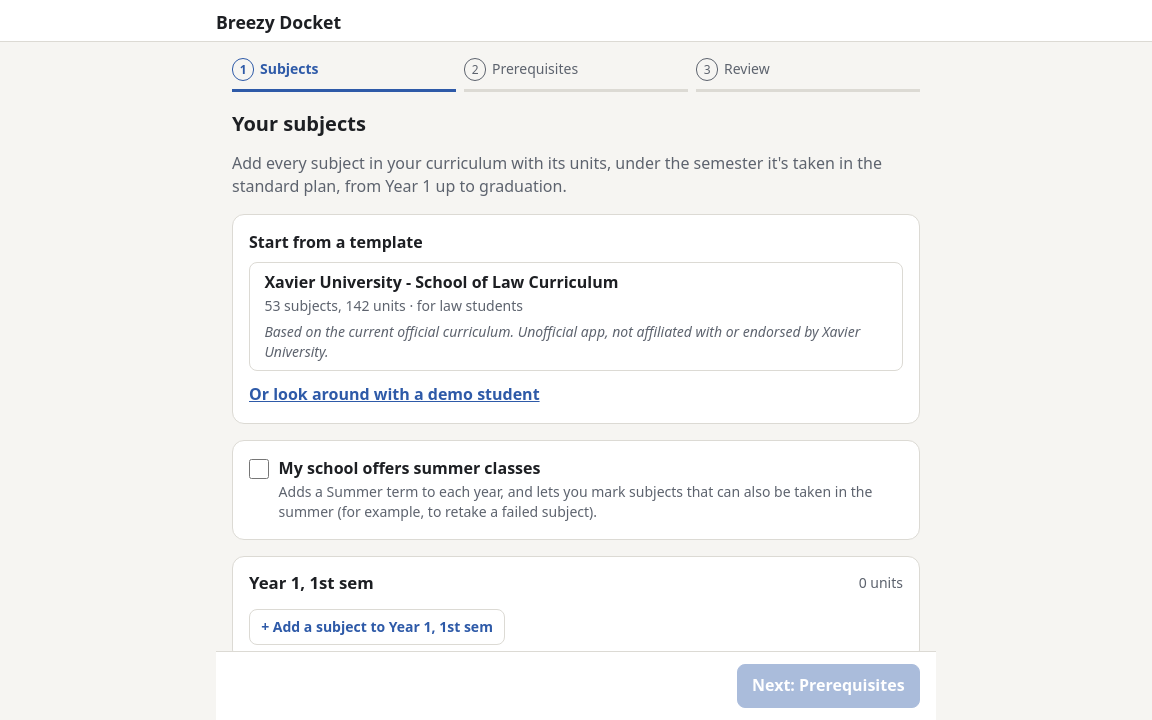
Test: working subjects › moving a subject warns when that blocks a subject planned soon after it
Click the button "Or look around with a demo student".
click(394, 395)  # box [249,383,540,406]
(page scrolled)
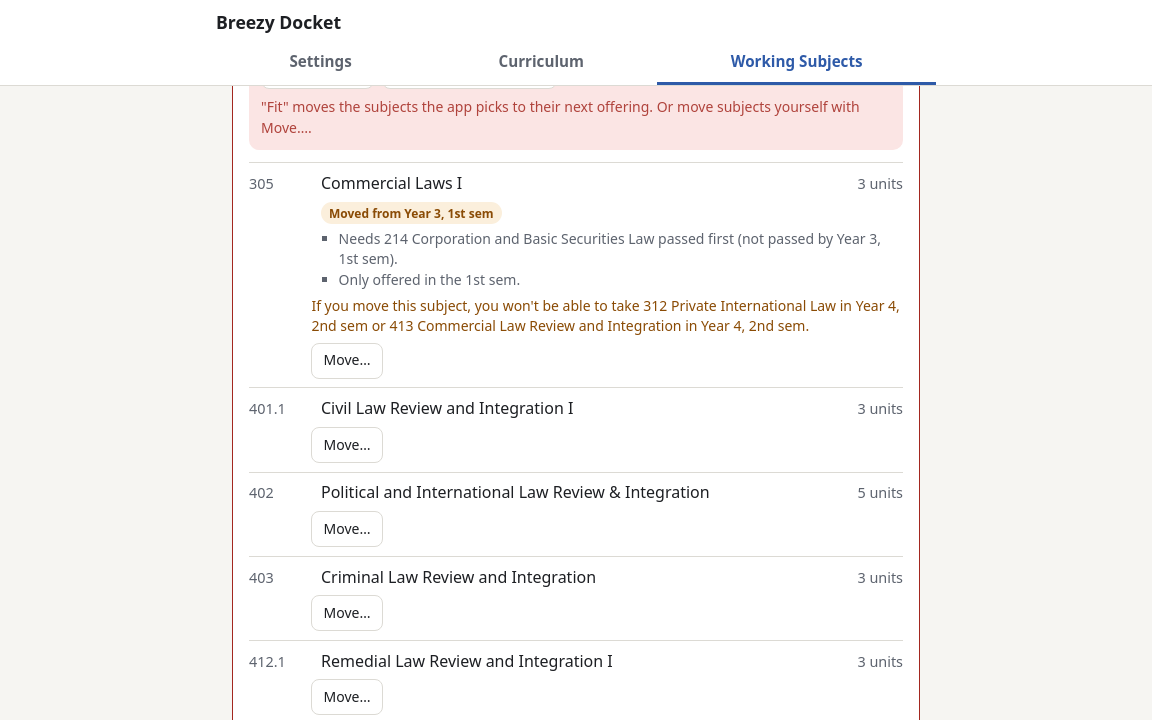
Click the button with aria-label "Move 305 to another semester".
click(347, 361)  # box [311,343,383,379]
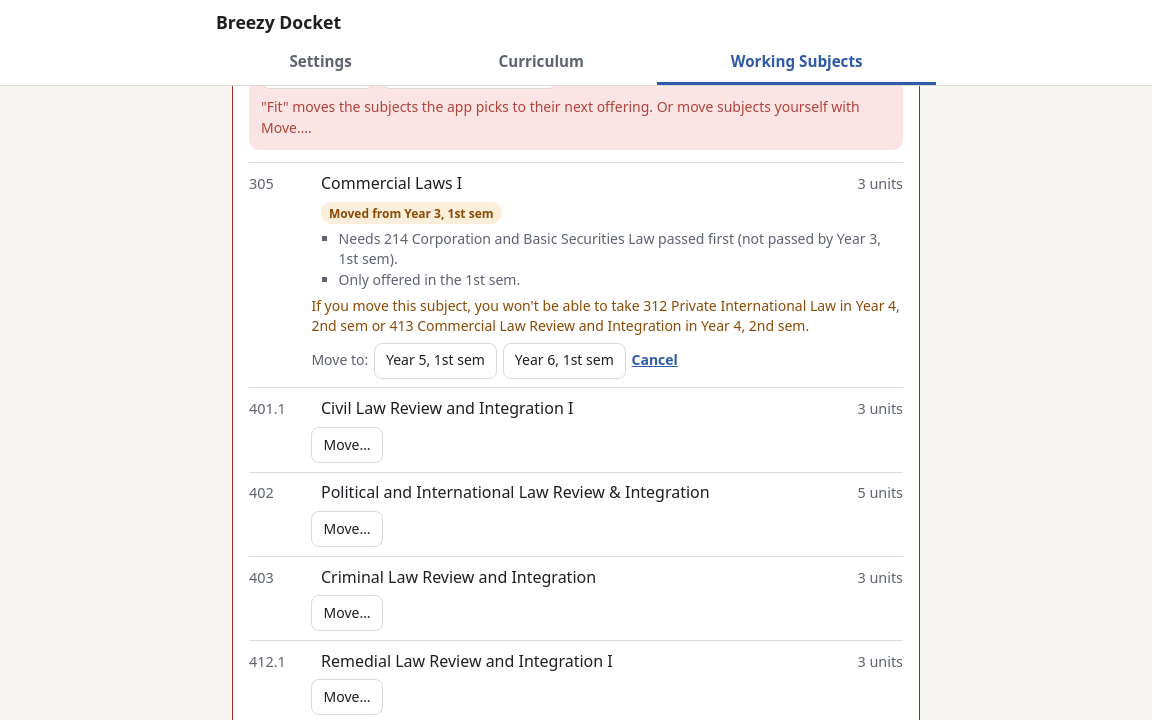
Expected: the element named "Move 305 to" is shown, [311,343,678,379]
